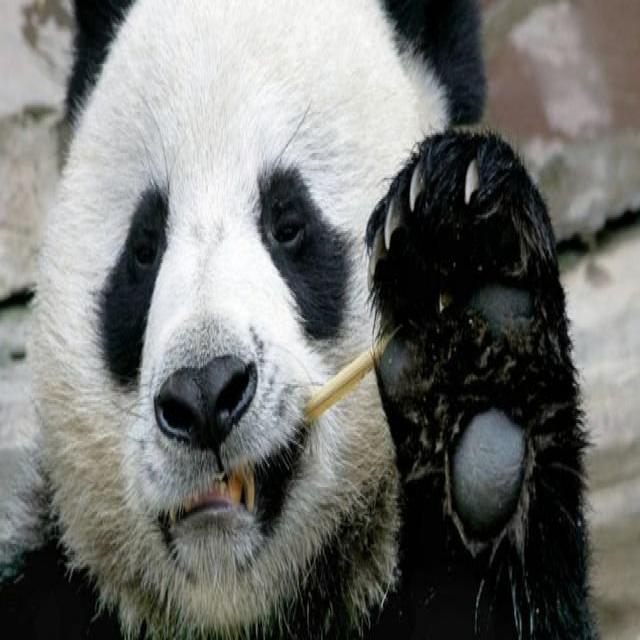panda: (0, 0, 596, 638)
